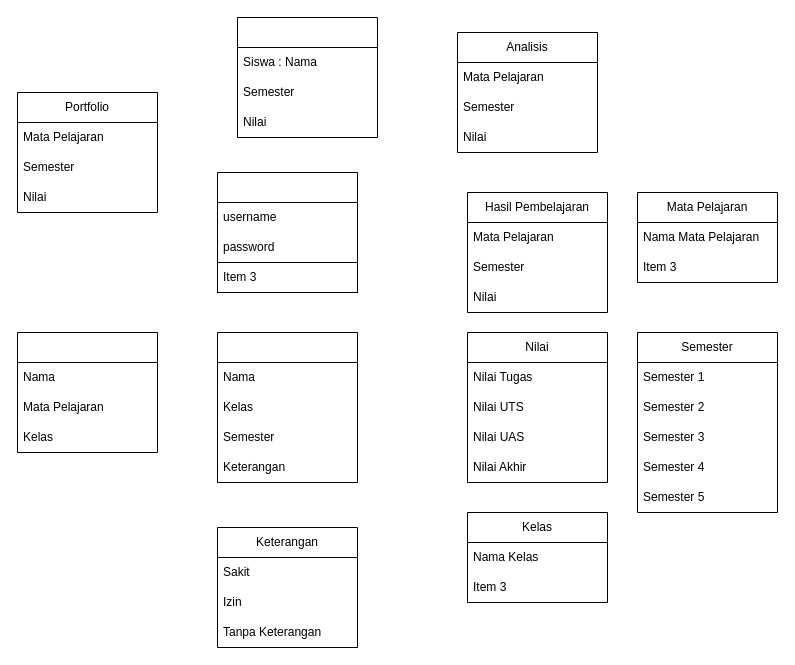
This 795x665 diagram has some shape labels left out. The shapes that lost their labels are listed below. From the top down, each one's box as (x1, y1, x2, y2) in pixels, then its label:
(236, 16, 378, 138): Input Data
(216, 172, 358, 292): Login
(16, 332, 158, 452): User : Guru
(216, 332, 358, 482): User : Siswa
